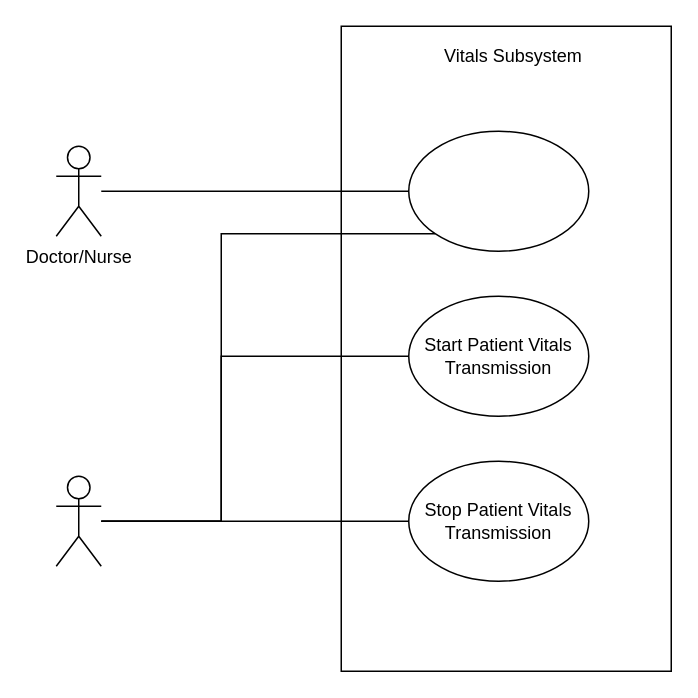
The diagram is 698 pixels wide and 698 high, and some of its shapes have lost their labels. Each missing label, with the centre of its shape:
Paramedic: (x=78, y=520)
View Patient Vitals: (x=498, y=190)
